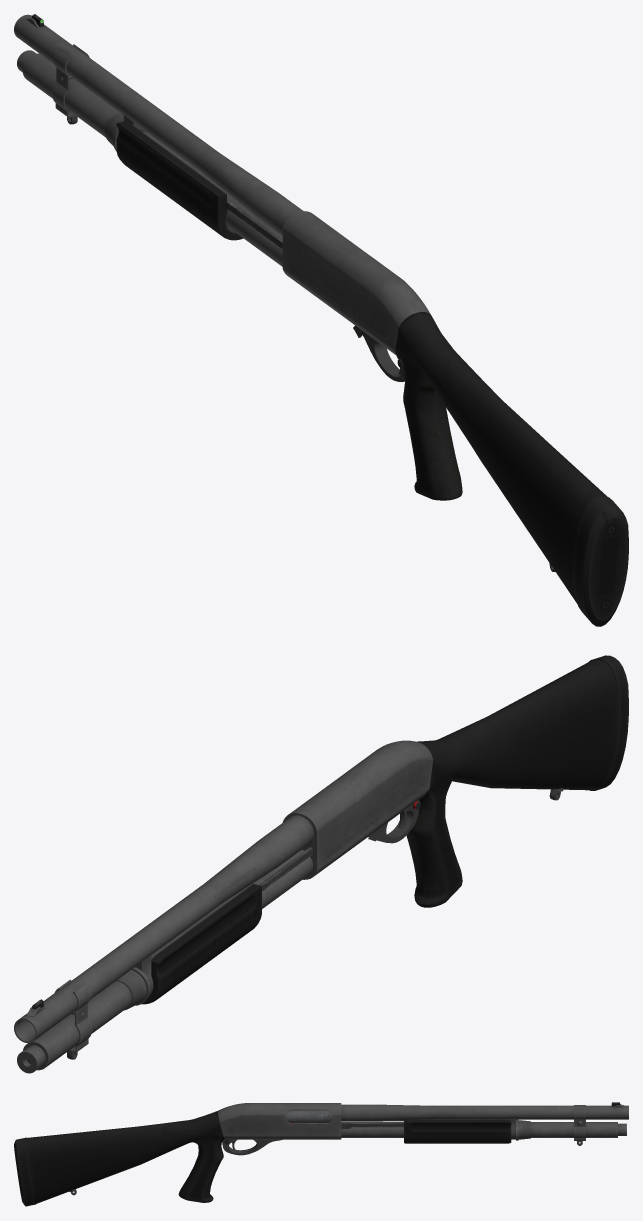
Rendered from shotgun.glb.
3 views of the same model, one above another, from view 1: azimuth 30°, elevation 25°; view 2: azimuth 150°, elevation 25°; view 3: azimuth 270°, elevation 25° (orthographic). The views are drawn at different scales.
Parts seen in each view (by area): view 1: Receiver, Pump; view 2: Receiver, Pump; view 3: Receiver, Pump, Bolt.
Part boxes in pixels (left/top/right/bottom): Receiver: left=14, top=14, right=628, bottom=626; Pump: left=104, top=113, right=282, bottom=248; Receiver: left=14, top=655, right=628, bottom=1073; Pump: left=116, top=847, right=312, bottom=1010; Receiver: left=14, top=1102, right=628, bottom=1206; Pump: left=309, top=1117, right=530, bottom=1143; Bolt: left=285, top=1110, right=332, bottom=1122.
Size of the model in its own units: 0.046 by 0.1934 by 1.04.
Materials: 2 (2 with a texture image).
